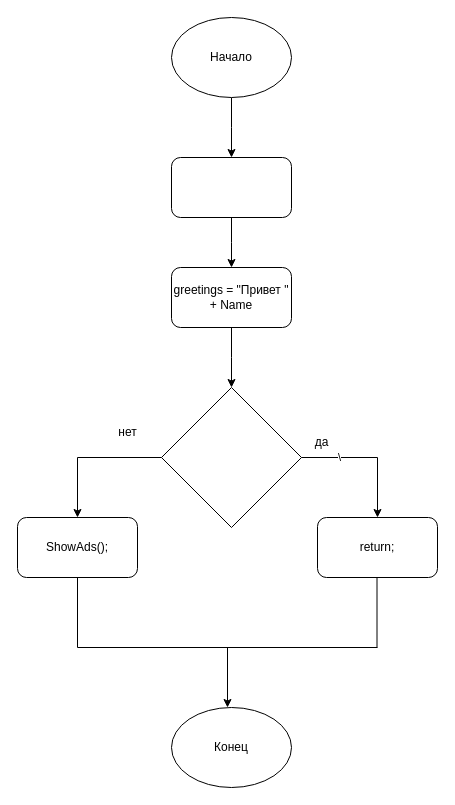
Image size: 455x805. Some labels were removed from this diagram. The centre of each missing label's shape, as x and y in pixels:
"IsPremium == true" belongs at pixel 231 457.
"Name = Console.ReadLine();" belongs at pixel 231 187.
